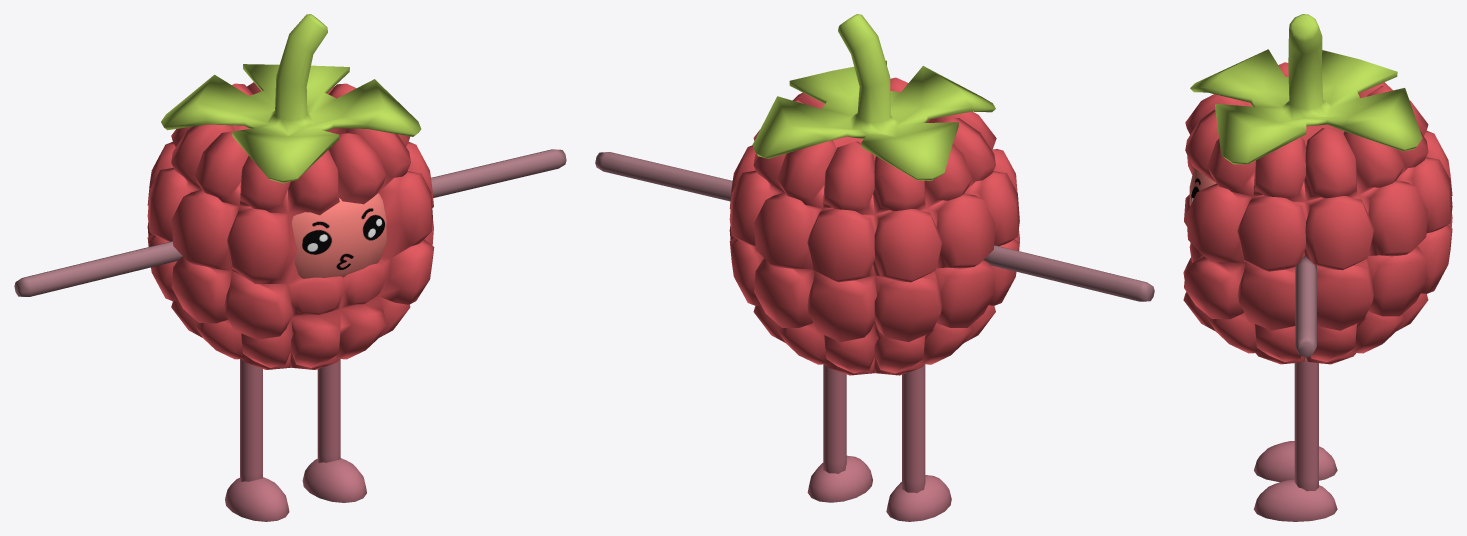
The model's file is raspberry_1211(2).fbx.
3 renders of one model, left to right at view 1: azimuth 30°, elevation 25°; view 2: azimuth 150°, elevation 25°; view 3: azimuth 270°, elevation 25°, orthographic. The views are drawn at different scales.
Visible parts, largest first — view 1: raspberry; view 2: raspberry; view 3: raspberry.
Part boxes in pixels (<box>): raspberry: <box>14,14,566,521</box>; raspberry: <box>595,14,1154,521</box>; raspberry: <box>1183,14,1452,521</box>.
Bounding box in the file's own units: 217 × 180 × 90.7.
